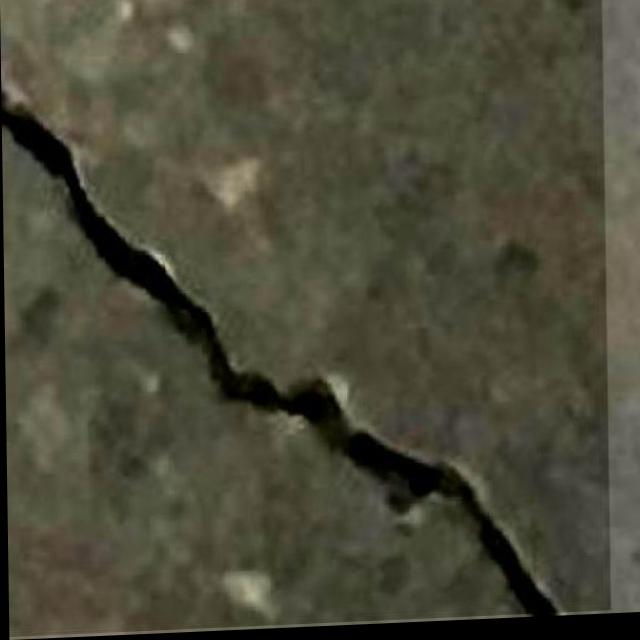Crack: (0, 15, 601, 640)
